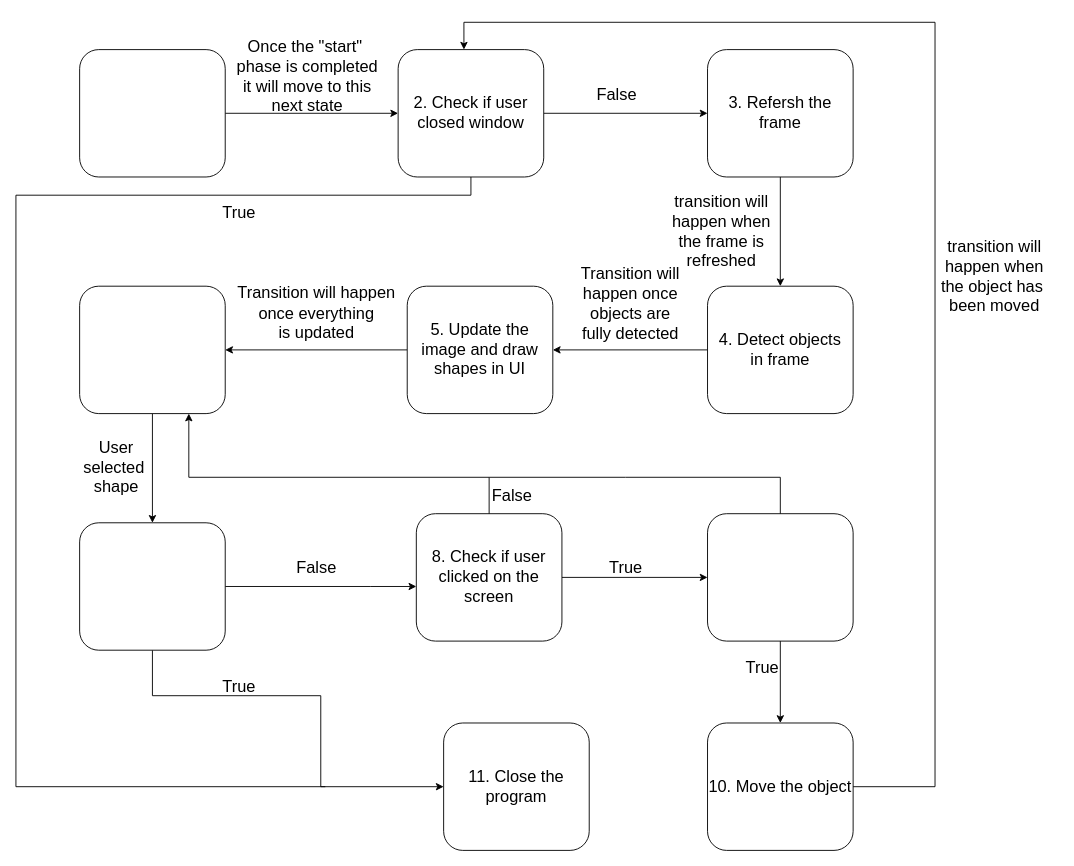
This 1074x866 diagram has some shape labels left out. Each missing label, with the box of its shape:
1. Start (Here almost everything is defined/imported and initialized): (79, 49, 225, 177)
6. Check if user selected a shape: (79, 285, 225, 414)
7. Check if user closed window: (79, 522, 225, 650)
9. Check if selected position is within object bounderies: (707, 513, 853, 641)
